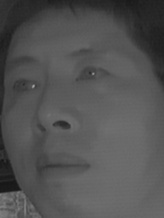eye: (74, 62, 111, 88), (10, 76, 41, 96)
mouth: (31, 145, 92, 184)
